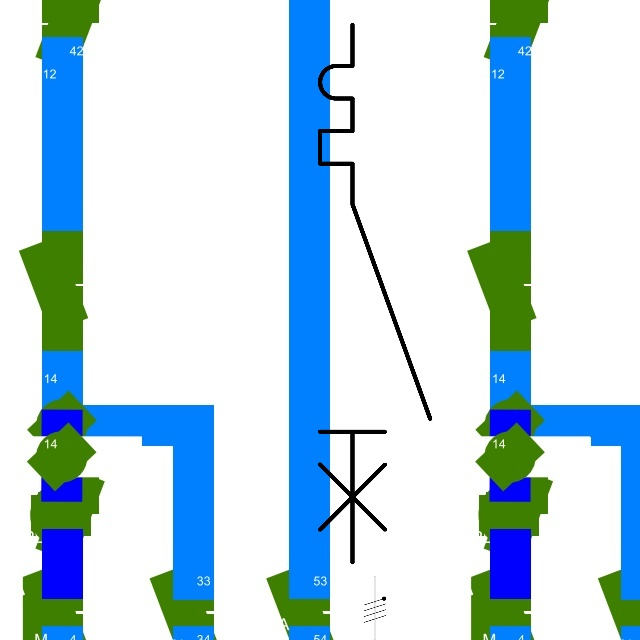interruptor_termomagnetico: (306, 11, 444, 576)
